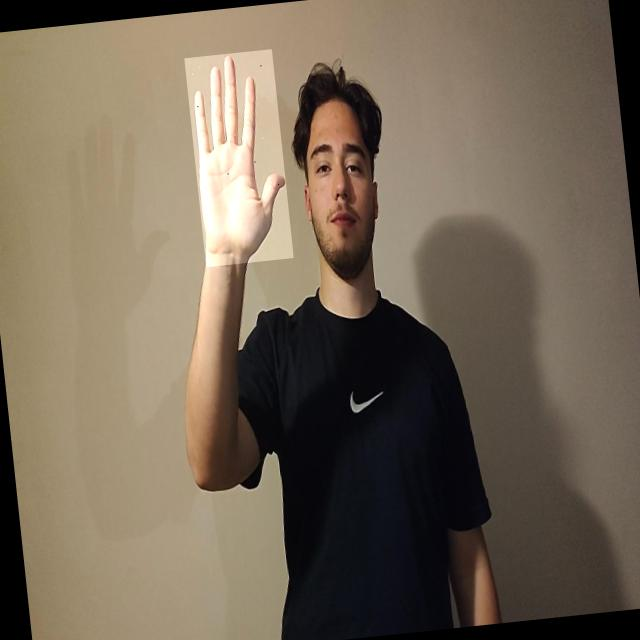hello: (184, 48, 293, 266)
